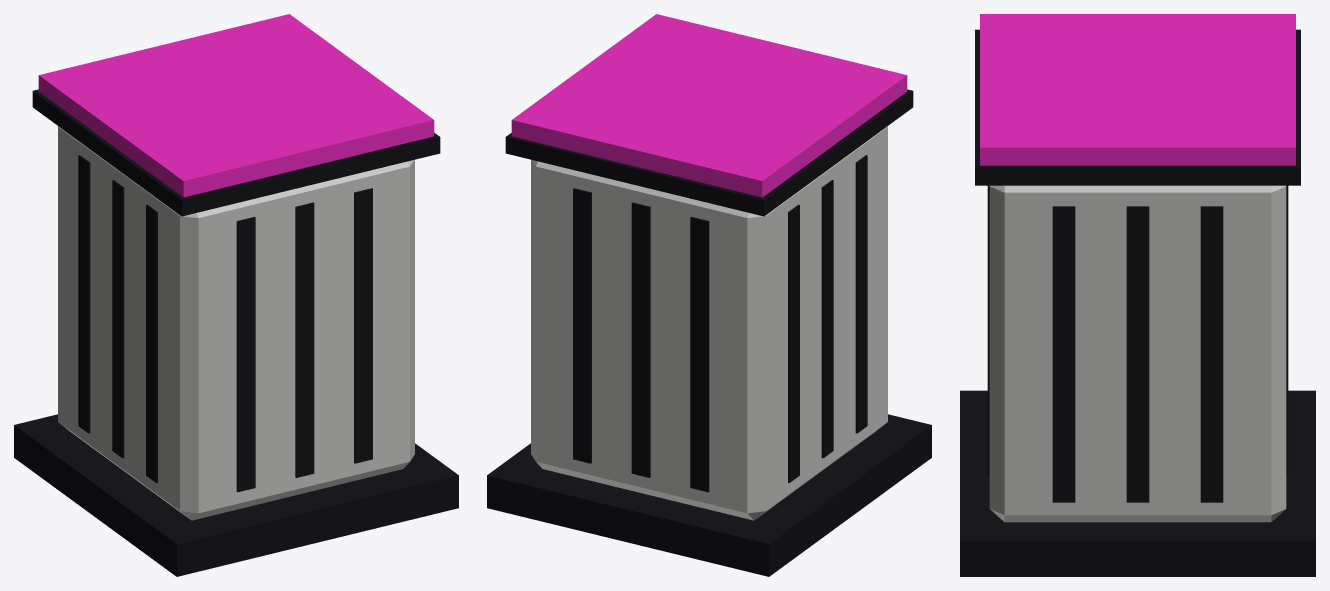
The model's file is laser_pedestal.gltf.
The picture shows the model from 3 angles, left to right: view 1: azimuth 30°, elevation 25°; view 2: azimuth 150°, elevation 25°; view 3: azimuth 270°, elevation 25°; orthographic projection. The views are drawn at different scales.
Parts seen in each view (by area): view 1: laser_pedestal; view 2: laser_pedestal; view 3: laser_pedestal.
Boxes of the visible parts, bbox=[...] form: laser_pedestal: bbox=[14, 14, 458, 576]; laser_pedestal: bbox=[487, 14, 931, 576]; laser_pedestal: bbox=[960, 14, 1315, 576].
Bounding box in the file's own units: 0.72 × 0.94 × 0.72.
